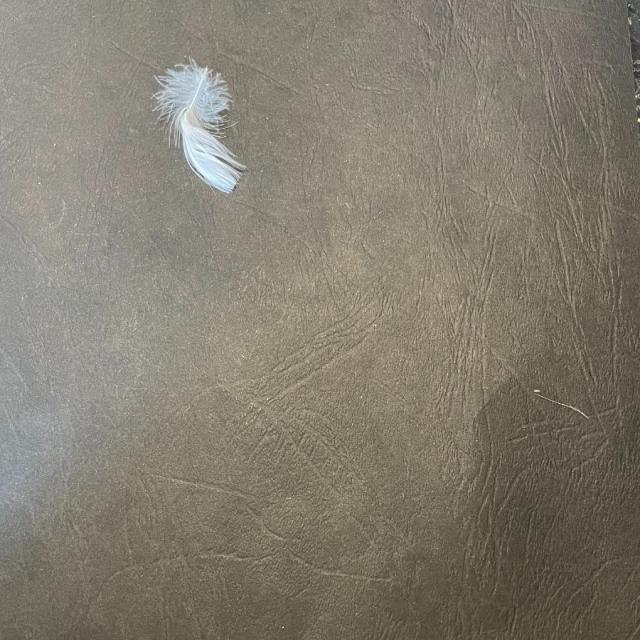feather: (154, 59, 246, 193)
